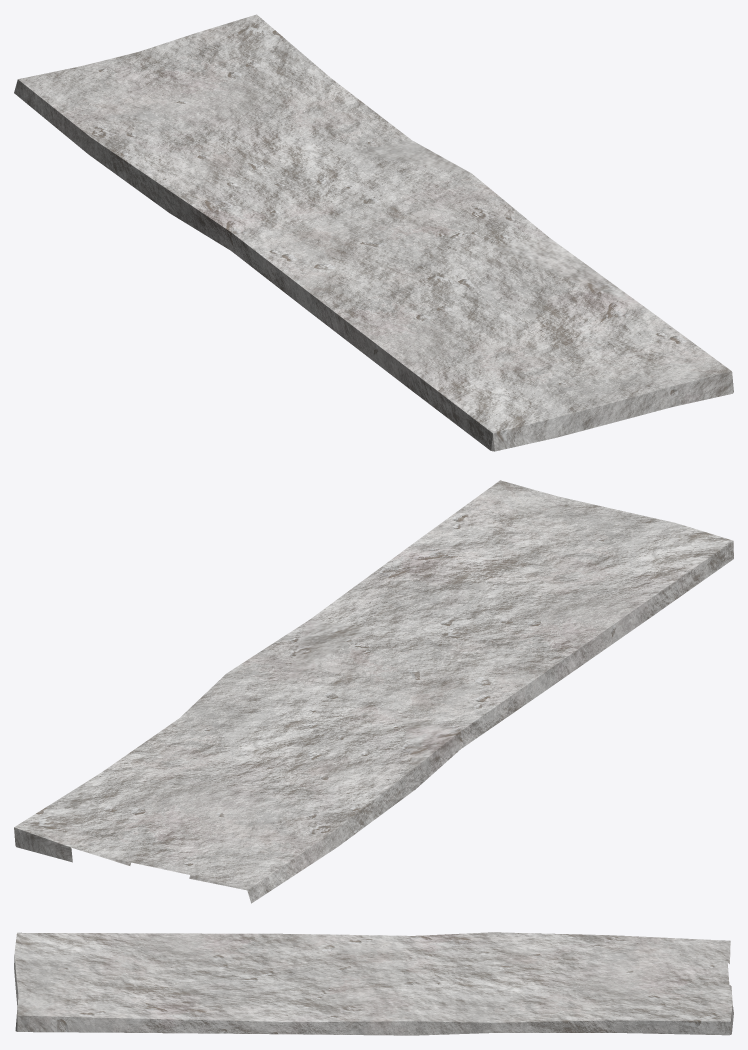
Rendered from tile3_LOD1.FBX.
3 views of the same model, one above another, from view 1: azimuth 30°, elevation 25°; view 2: azimuth 150°, elevation 25°; view 3: azimuth 270°, elevation 25° (orthographic). The views are drawn at different scales.
Parts seen in each view (by area): view 1: tile3_LOD1; view 2: tile3_LOD1; view 3: tile3_LOD1.
Boxes of the visible parts, box(x1,y1,x2,y2) form: tile3_LOD1: box(14, 14, 733, 451); tile3_LOD1: box(14, 480, 733, 903); tile3_LOD1: box(14, 932, 733, 1035).
Size of the model in its own units: 51.31 by 4.18 by 173.
